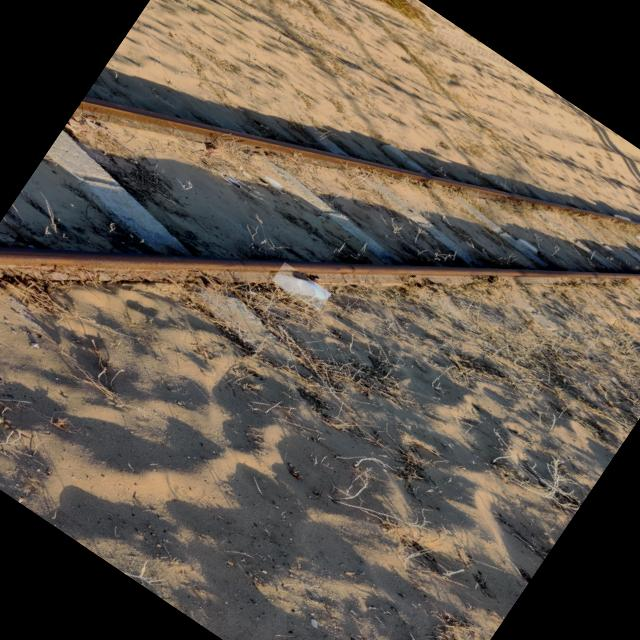Clear plastic bottle: (274, 276, 330, 301)
Unlabeled litter: (518, 240, 537, 254), (265, 178, 281, 190), (224, 177, 240, 187), (636, 236, 640, 240)
